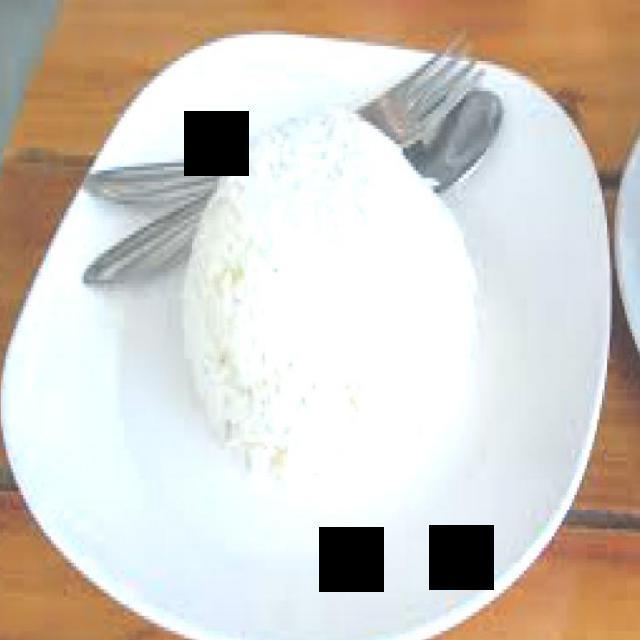Chicken -Chicken Inasal-: (176, 114, 332, 475)
